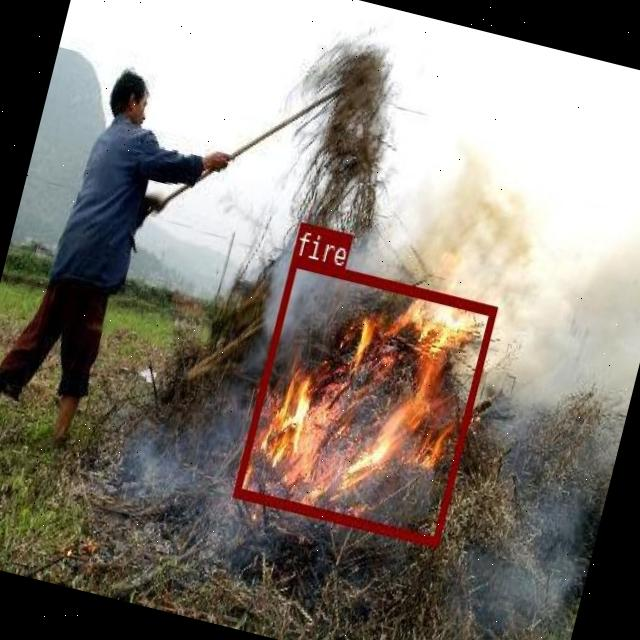fire: (232, 254, 496, 544)
